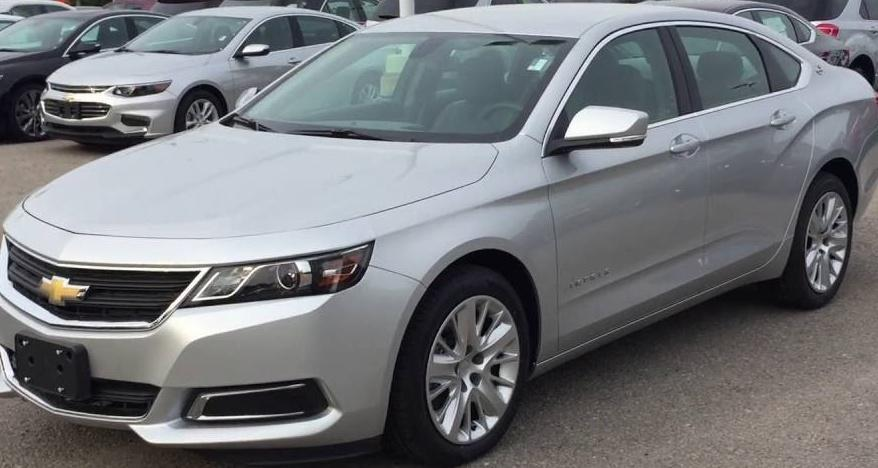Cars: (1, 6, 878, 466)
